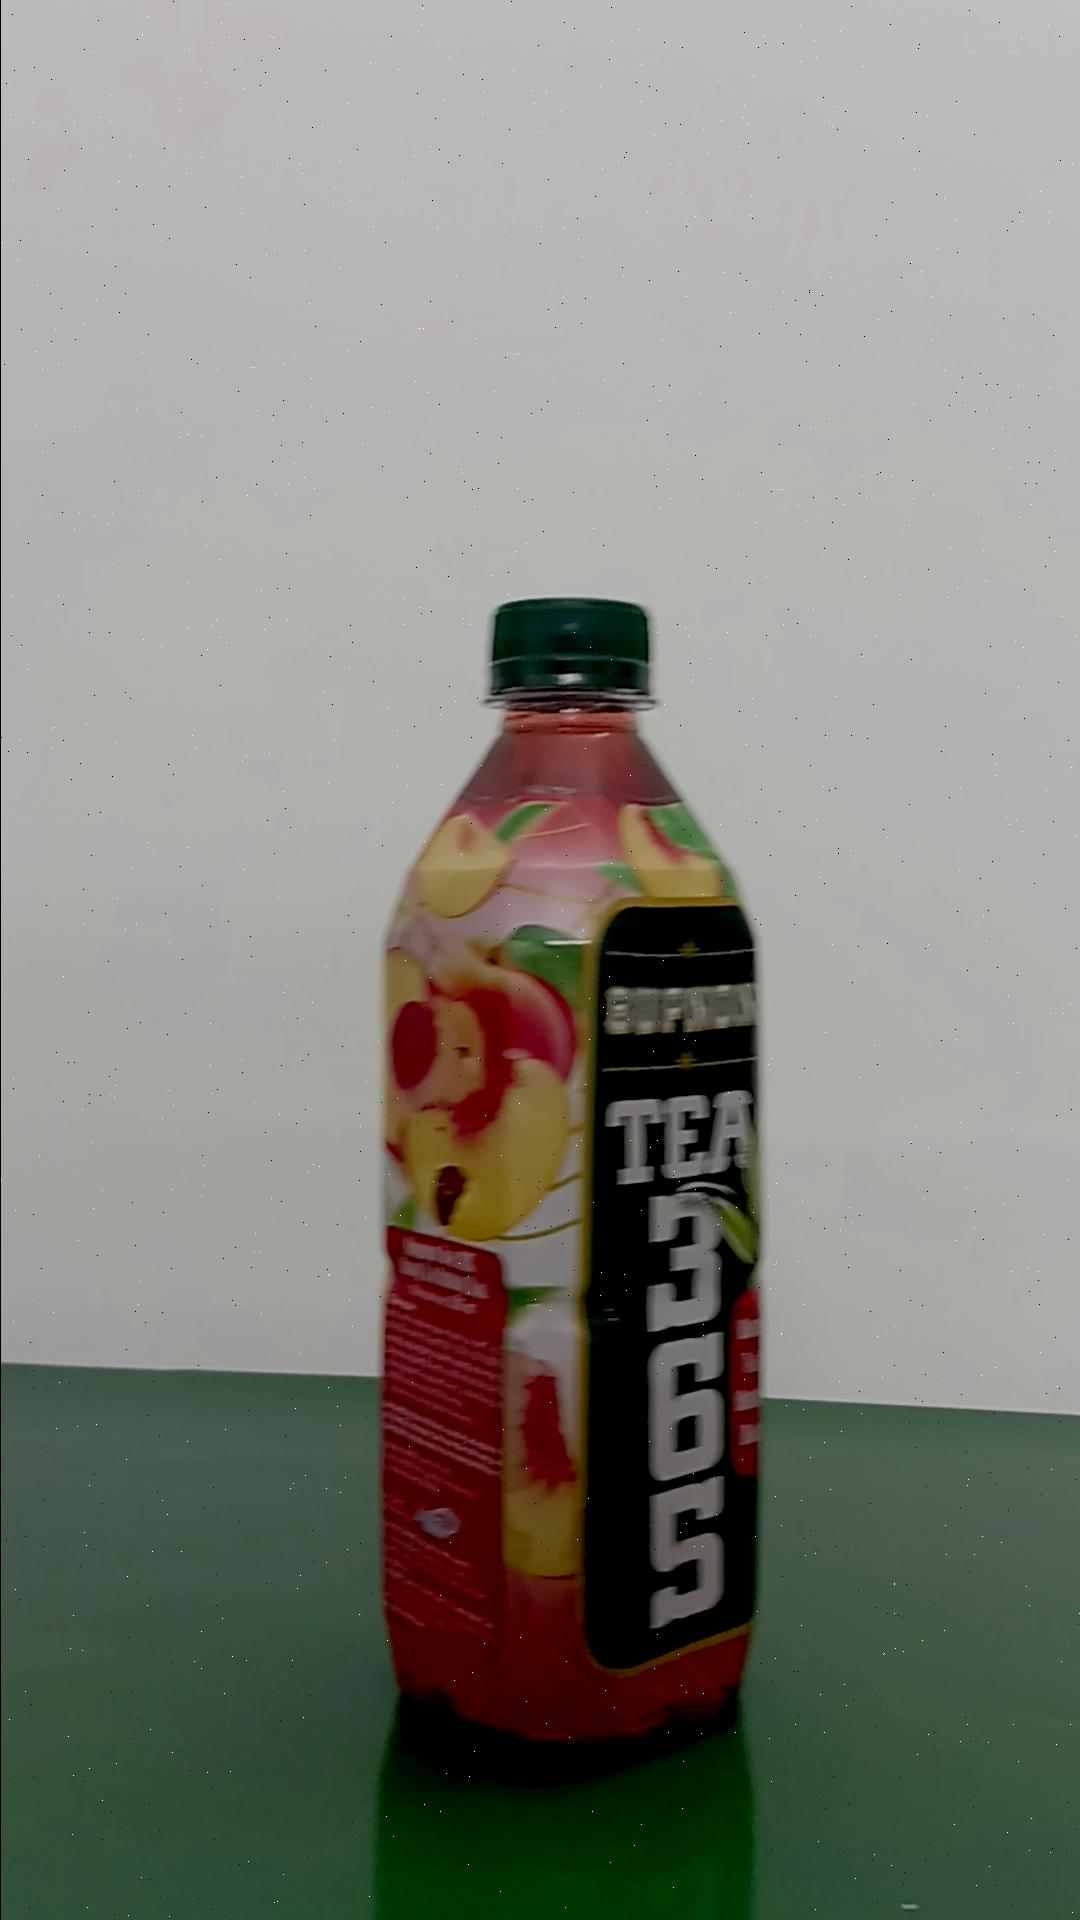loi rach va lap chai: (378, 593, 766, 1783)
